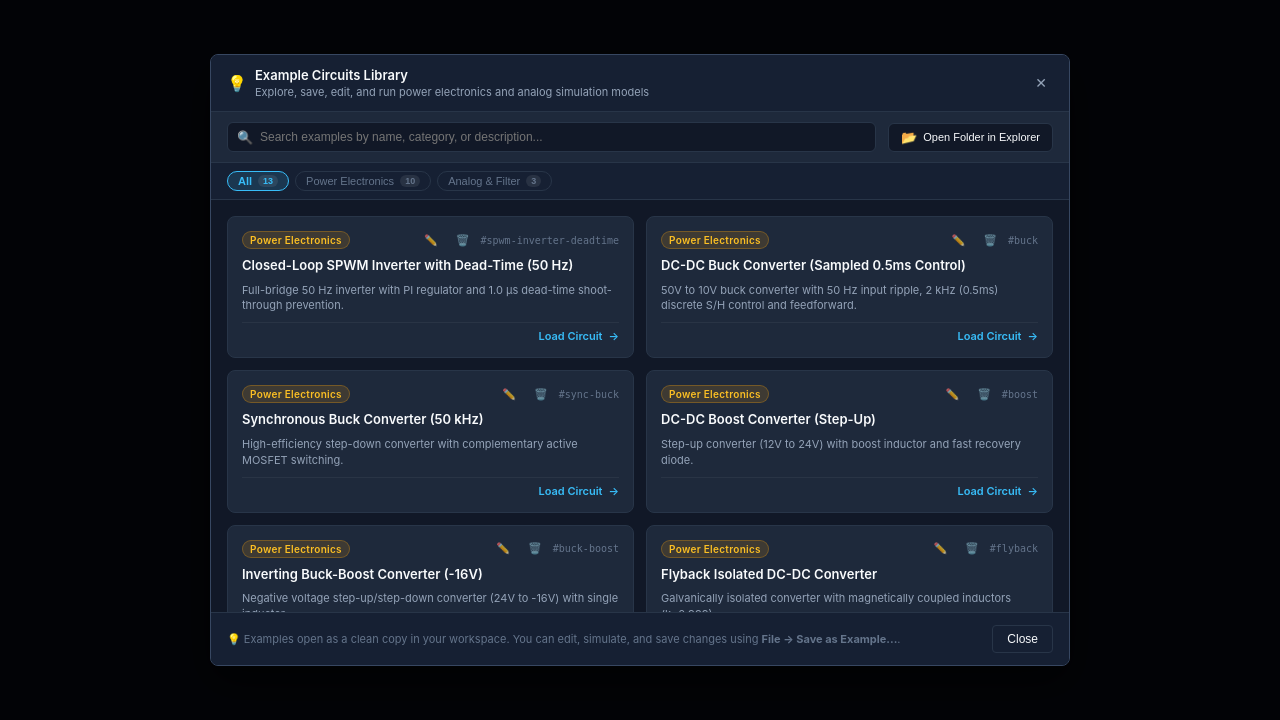
Scenario: ExamplesModal Component › opens edit modal when clicking edit button on a card
This screenshot has width=1280, height=720.
Step 1. Click the button named "Edit DC-DC Buck Converter" → (958, 240), box left=944, top=232, right=972, bottom=248
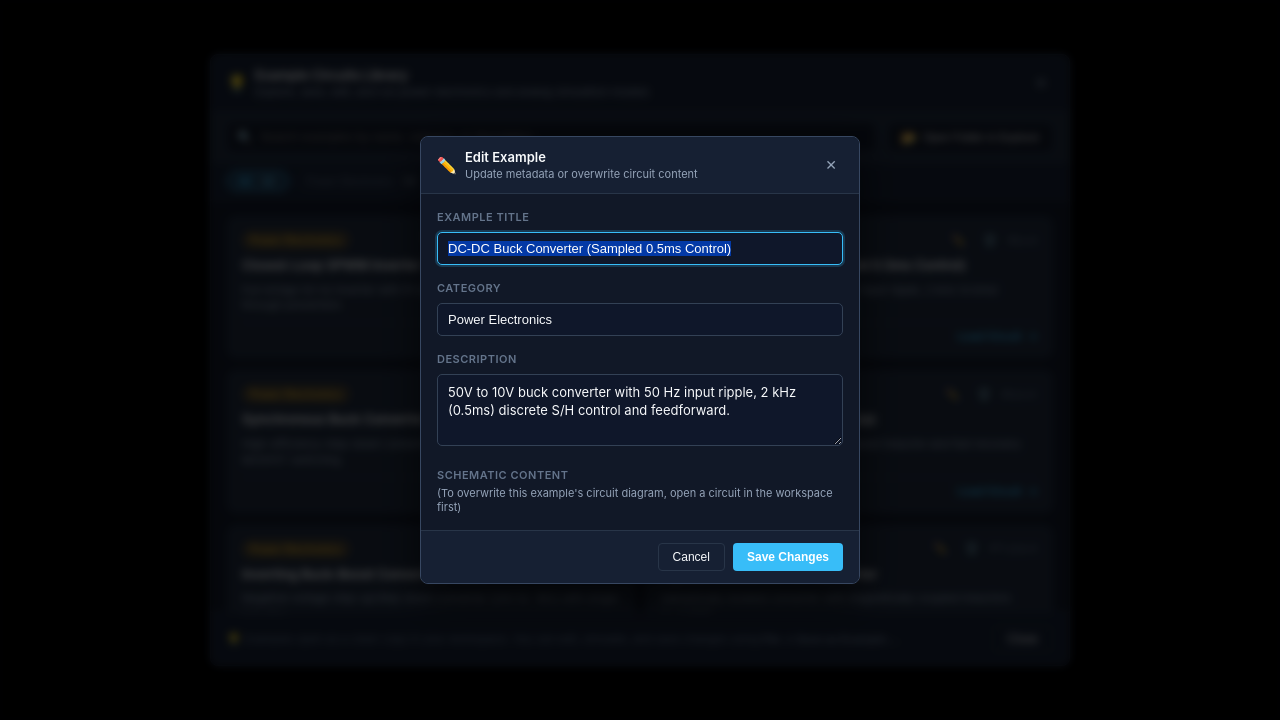
Now the heading "Edit Example" is shown, box left=465, top=149, right=546, bottom=165
